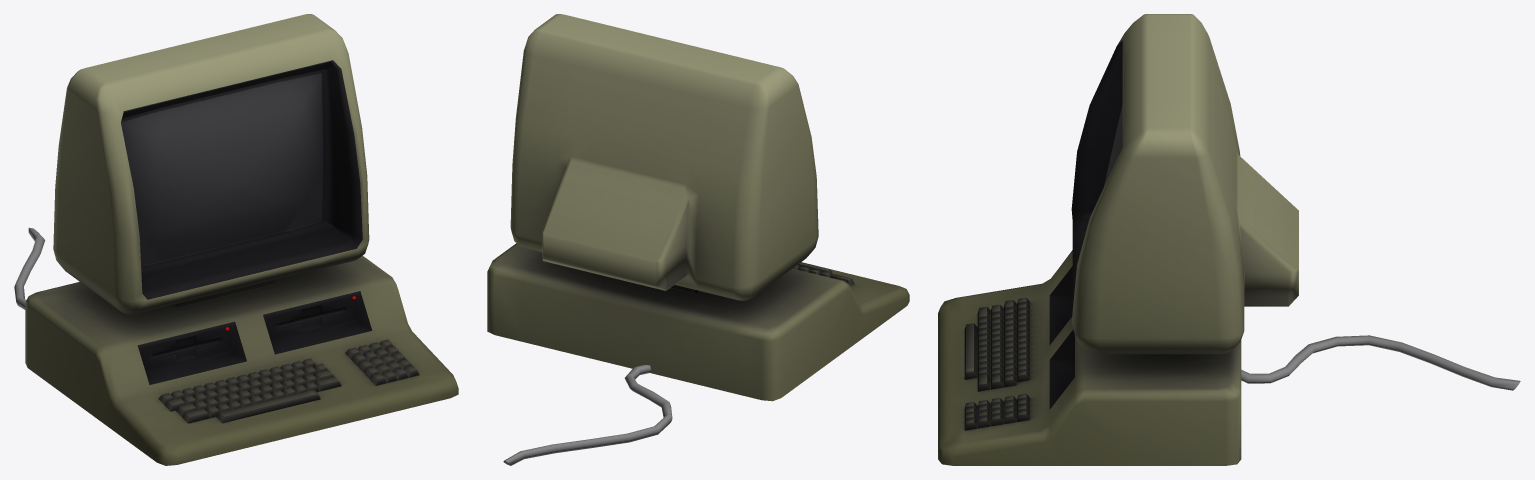
The model's file is computer.fbx.
3 renders of one model, left to right at view 1: azimuth 30°, elevation 25°; view 2: azimuth 150°, elevation 25°; view 3: azimuth 270°, elevation 25°, orthographic. The views are drawn at different scales.
Parts seen in each view (by area): view 1: Computer; view 2: Computer; view 3: Computer.
Boxes of the visible parts, box(x1,y1,x2,y2) form: Computer: box(14, 14, 458, 465); Computer: box(487, 14, 909, 465); Computer: box(938, 14, 1520, 465).
Bounding box in the file's own units: 0.8223 × 0.8053 × 1.32.
